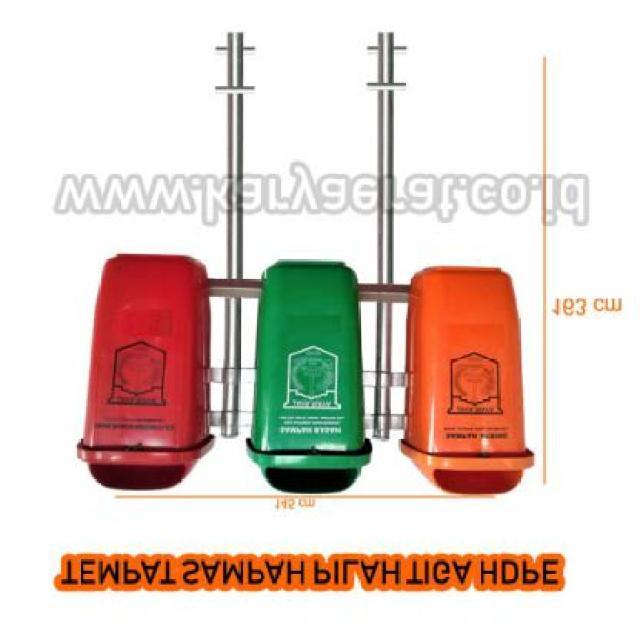garbage container: (67, 246, 230, 500), (395, 261, 544, 501), (244, 257, 377, 497)
